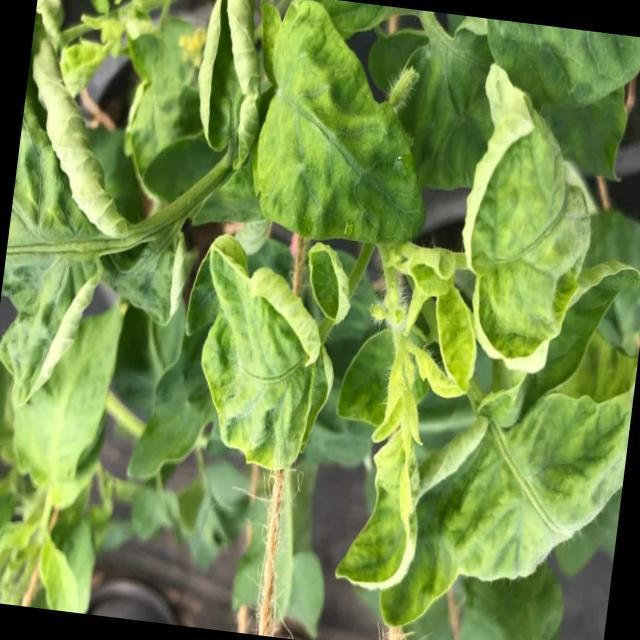Yellow Curl Virus: (0, 48, 159, 417), (450, 77, 610, 370), (178, 230, 360, 473), (332, 339, 433, 596), (183, 0, 276, 170), (425, 286, 486, 399)
